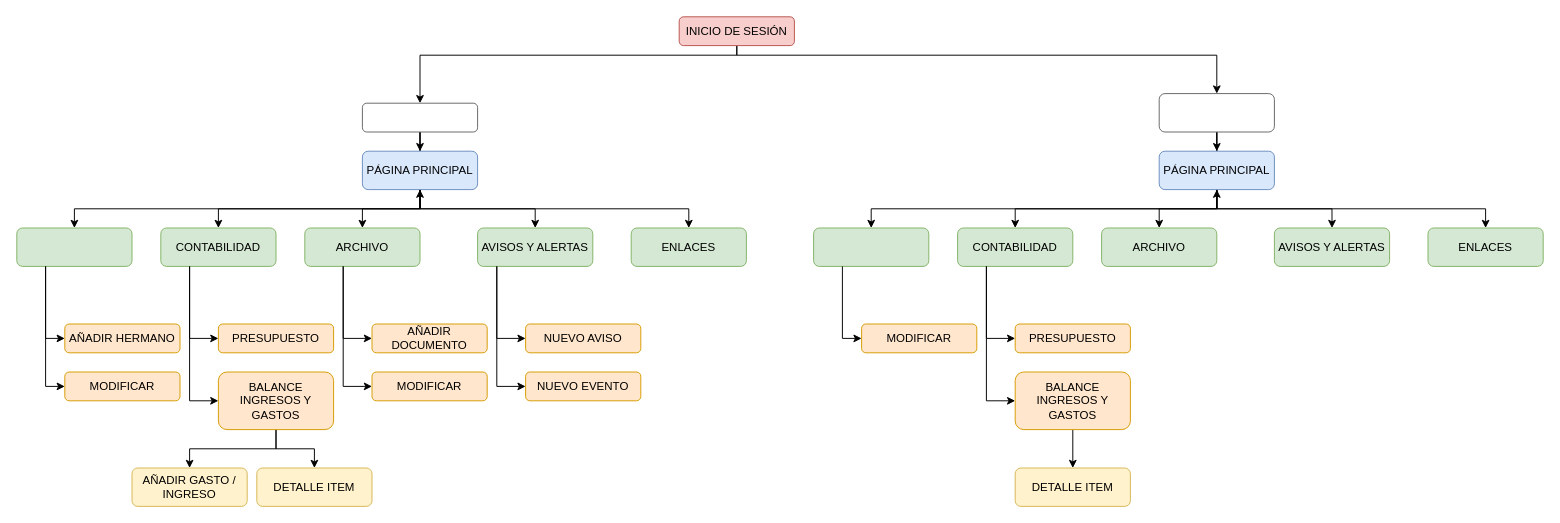
The diagram is 1560 pixels wide and 523 high, and some of its shapes have lost their labels. Here are the shapes that lost their labels. From the top down, the centre of each, then its label:
At pixel 419 117: "ADMINISTRADOR".
At pixel 1216 112: "USUARIO /HERMANO".
At pixel 74 246: "CENSO DE HERMANOS".
At pixel 871 246: "PERFIL PERSONAL".
